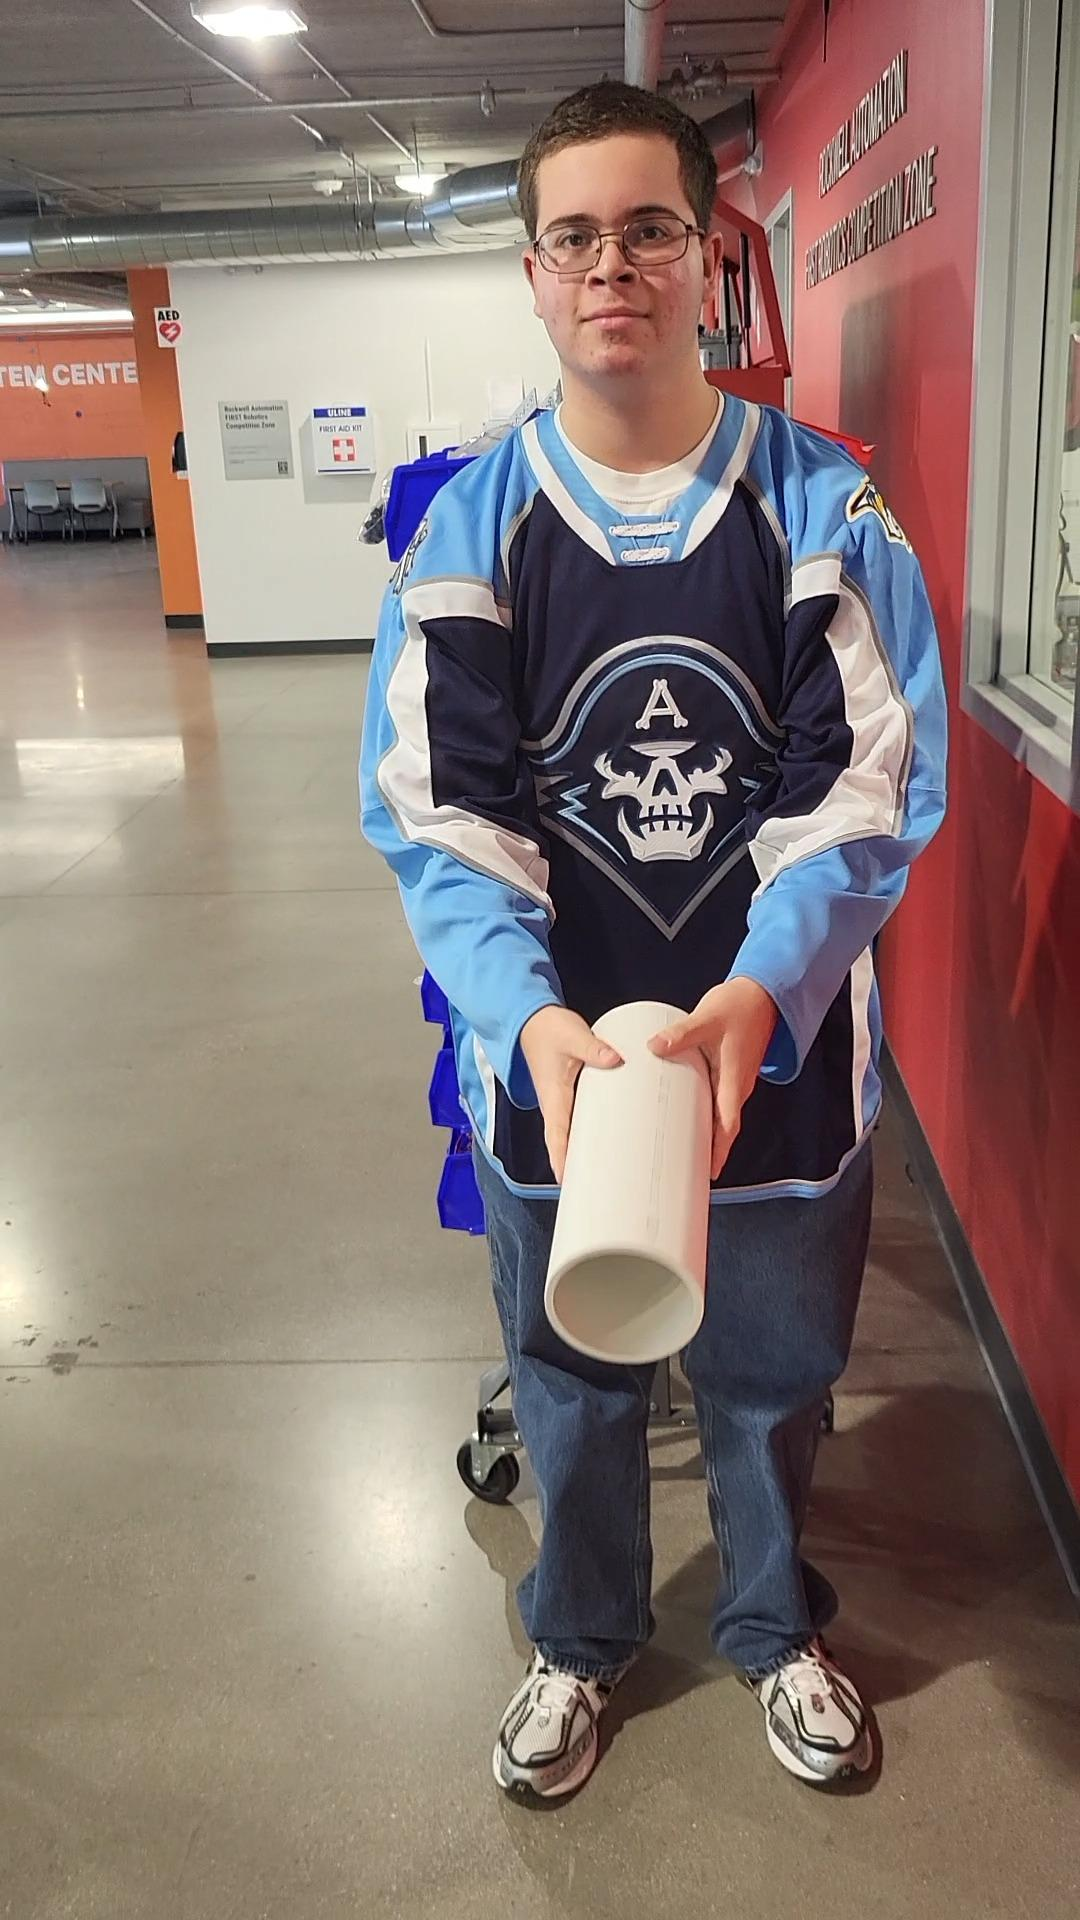coral: (539, 997, 731, 1379)
